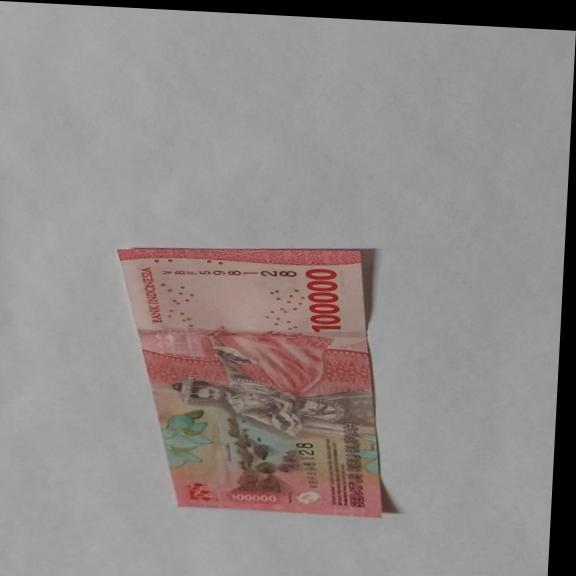Kertas: (102, 235, 401, 518), (300, 266, 346, 334)
